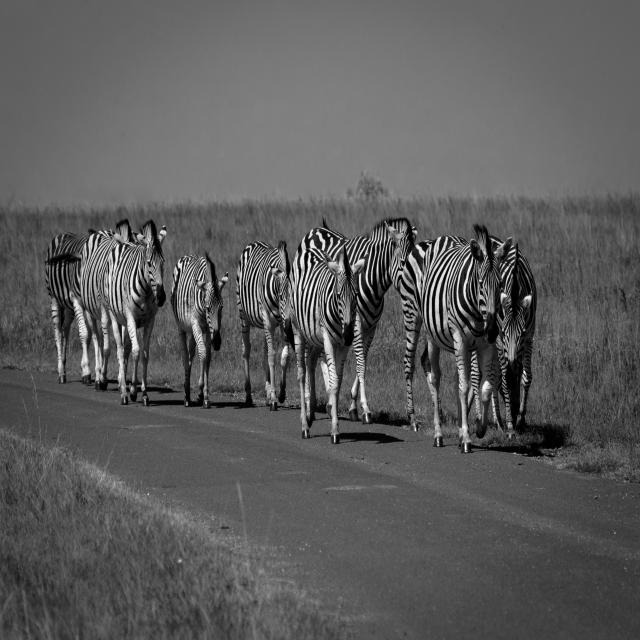Zebra: (293, 216, 418, 423), (400, 223, 512, 453), (288, 247, 369, 446), (80, 220, 166, 407), (464, 235, 537, 437), (46, 219, 129, 384), (236, 239, 294, 412), (171, 251, 229, 409)
